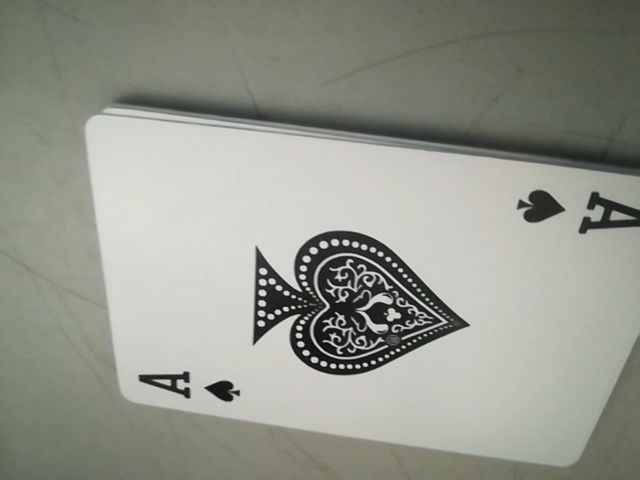ht a: (511, 176, 640, 251)
